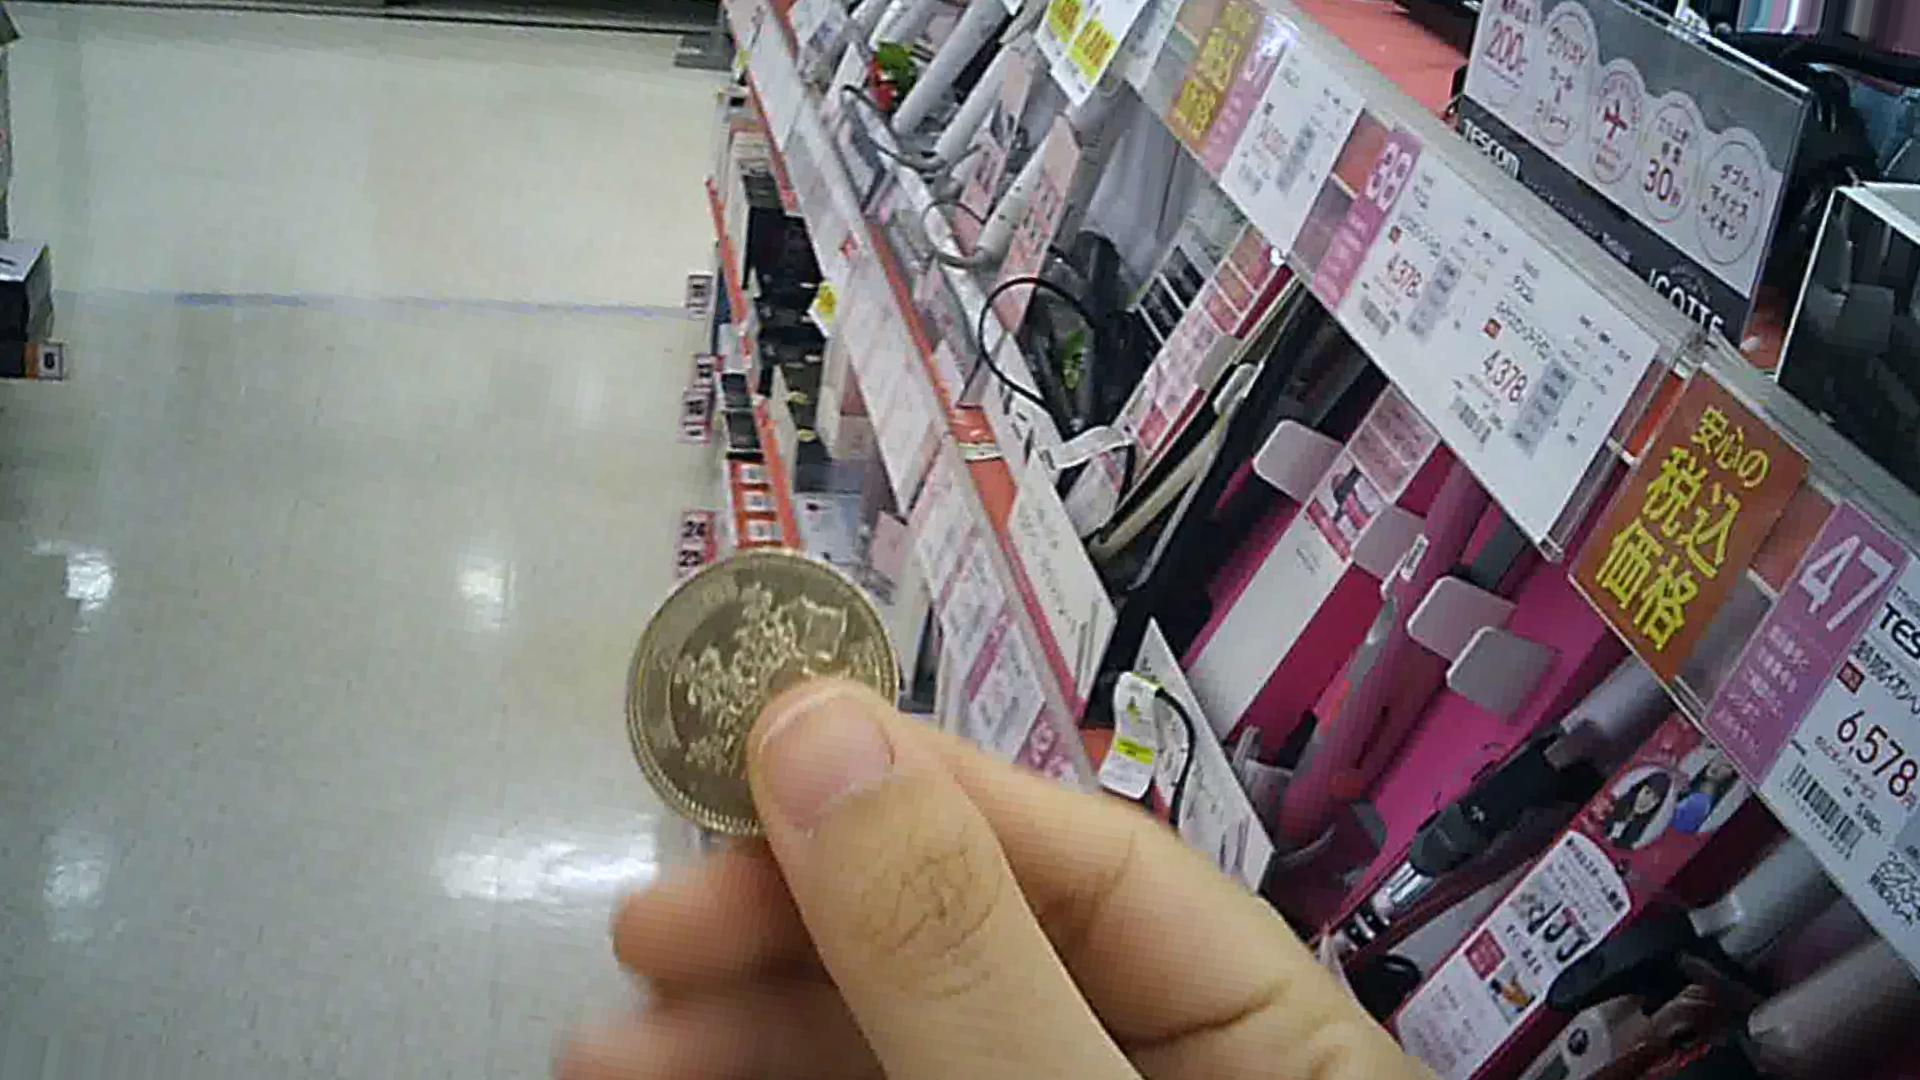500 Yen: (613, 553, 893, 833)
